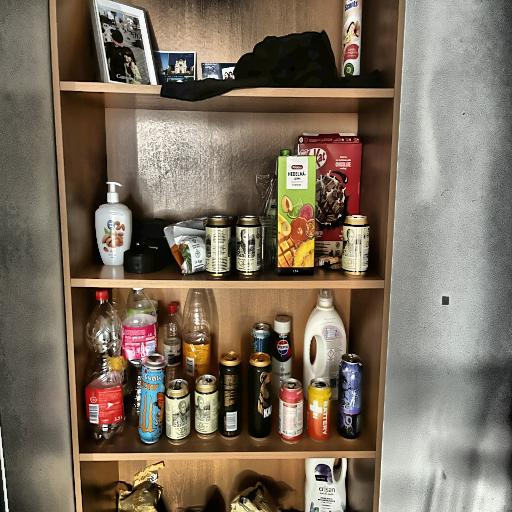karhu: (248, 354, 276, 440), (216, 356, 242, 447)
koff: (279, 372, 304, 448)
sandels: (201, 212, 236, 281), (339, 210, 372, 277), (160, 377, 190, 450), (190, 372, 220, 444), (235, 215, 266, 283)
